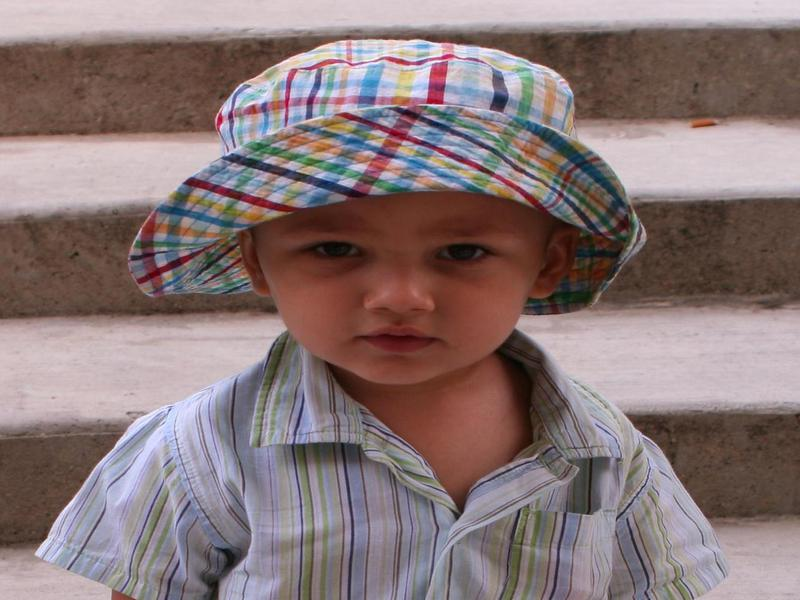person: (45, 36, 731, 600)
